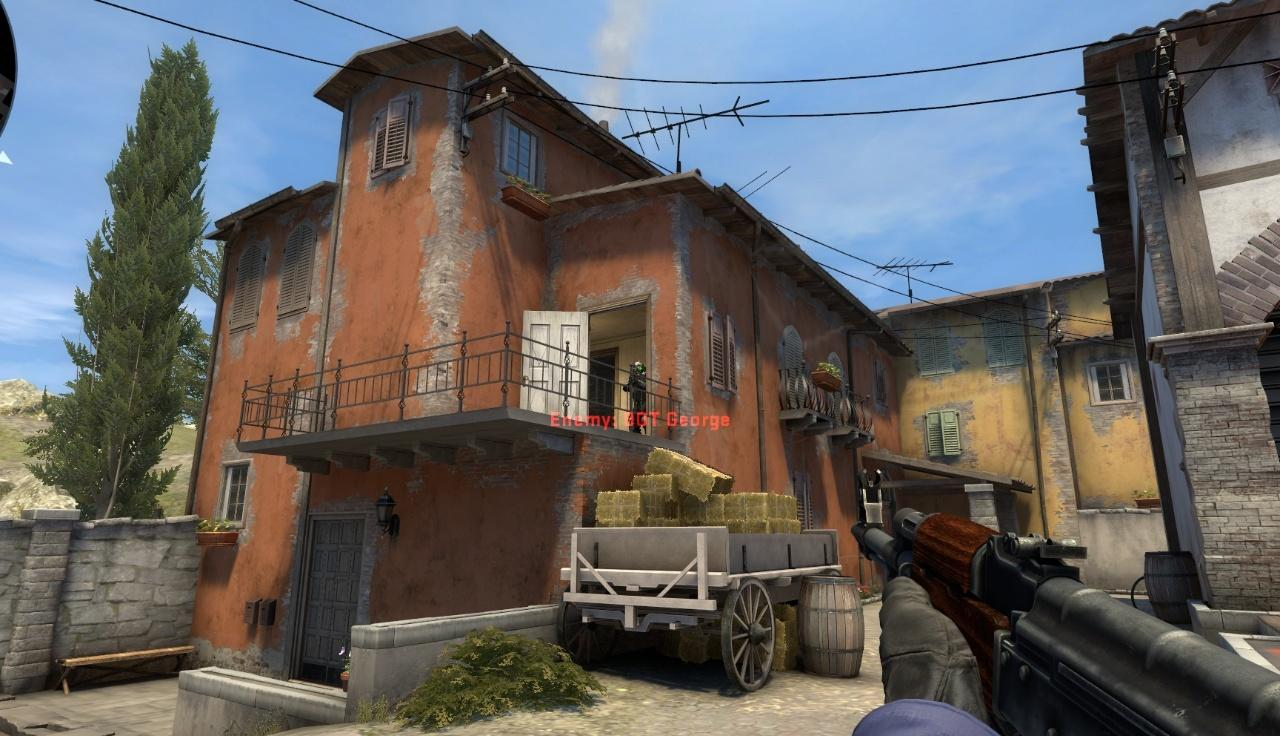ct: (627, 361, 649, 435)
cthead: (635, 362, 645, 375)
rifle: (855, 471, 1280, 736)
